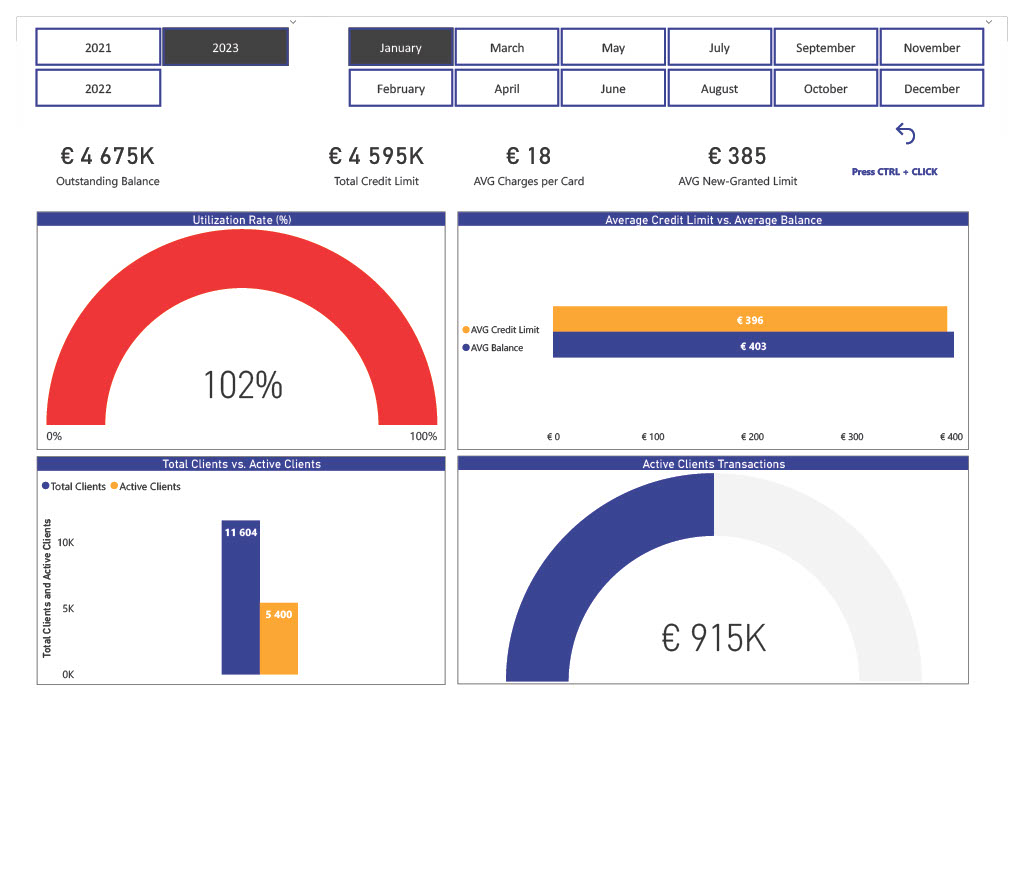

What the dashboard file says about the page in this screenshot:
{"tool":"powerbi","page":{"name":"Additional KPIs","canvas":[1400,1200],"ordinal":6},"visuals":[{"type":"group","id":"g1","title":"Group 1","box":[0,9.8,1392.4,133.6],"z":0},{"type":"slicer","fields":{"Values":["CalendarTable.Date.Variation.Date Hierarchy.Year"]},"box":[0,9.8,408.4,133.6],"z":0,"group":"g1"},{"type":"slicer","fields":{"Values":["CalendarTable.Date.Variation.Date Hierarchy.Month"]},"box":[443.1,9.8,949.3,133.6],"z":1000,"group":"g1"},{"type":"card","fields":{"Values":["#Measure.AVGCharges"]},"box":[622.9,143.7,202.5,120.6],"z":1000},{"type":"textbox","box":[1171.9,204.2,143.4,40.2],"z":2000},{"type":"card","fields":{"Values":["Sum(UtilisationRate.TotalCreditLimit)"]},"box":[408,143.7,200.9,120.6],"z":3000},{"type":"actionButton","box":[1236,144.5,53.2,40.2],"z":4000},{"type":"card","fields":{"Values":["Sum(UtilisationRate.OutstandingBalance)"]},"box":[27.8,143.7,200.9,120.6],"z":5000},{"type":"gauge","title":"Utilization Rate (%)","fields":{"Y":["Sum(UtilisationRate.UtilisationRate %)"]},"box":[27.8,275.1,578.1,336.9],"z":6000,"group":"g2"},{"type":"card","fields":{"Values":["Sum(AverageNewGrantedLimit.AverageNewGrantedLimit)"]},"box":[918.1,143.7,202.5,120.6],"z":7000},{"type":"clusteredBarChart","title":"Average Credit Limit vs. Average Balance (€)","fields":{"Y":["Sum(AverageLimits.AverageLimit)","Sum(UtilisationRate.AverageBalance)"]},"box":[622.9,275.1,723.3,336.9],"z":8000,"group":"g2"},{"type":"clusteredColumnChart","title":"Total Clients vs. Active Clients (Count)","fields":{"Y":["Sum(TotalClients.TotalClients)","Sum(ActiveClients.ActiveClients)"]},"box":[27.8,621.3,578.1,323],"z":9000,"group":"g2"},{"type":"gauge","title":"Active Clients Transactions (€ K)","fields":{"Y":["Sum(ActiveClients.ActiveClientsTransactions)"]},"box":[622.9,619.8,723.3,323],"z":10000,"group":"g2"},{"type":"group","id":"g2","title":"Group 2","box":[27.8,275.1,1318.4,669.2],"z":10001}]}

Visuals, with their boxes in screenshot pixels (x1, y1, x2, y2), scaled from the page's 1400x1200 canvas onto the 1024x883 screenshot:
"Group 1" group: select_region(0, 7, 1018, 106)
slicer - CalendarTable.Date.Variation.Date Hierarchy.Year: select_region(0, 7, 299, 106)
slicer - CalendarTable.Date.Variation.Date Hierarchy.Month: select_region(324, 7, 1018, 106)
card - #Measure.AVGCharges: select_region(456, 106, 604, 194)
textbox: select_region(857, 150, 962, 180)
card - Sum(UtilisationRate.TotalCreditLimit): select_region(298, 106, 445, 194)
actionButton: select_region(904, 106, 943, 136)
card - Sum(UtilisationRate.OutstandingBalance): select_region(20, 106, 167, 194)
"Utilization Rate (%)" gauge: select_region(20, 202, 443, 450)
card - Sum(AverageNewGrantedLimit.AverageNewGrantedLimit): select_region(672, 106, 820, 194)
"Average Credit Limit vs. Average Balance (€)" clusteredBarChart: select_region(456, 202, 985, 450)
"Total Clients vs. Active Clients (Count)" clusteredColumnChart: select_region(20, 457, 443, 695)
"Active Clients Transactions (€ K)" gauge: select_region(456, 456, 985, 694)
"Group 2" group: select_region(20, 202, 985, 695)
